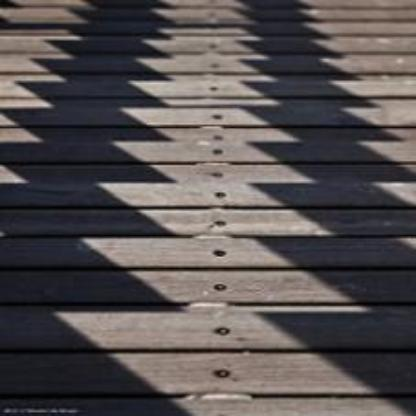stair: (17, 0, 416, 416)
